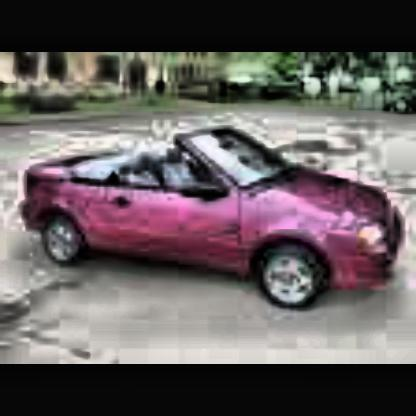Geo Metro Convertible 1993: (20, 120, 413, 324)
